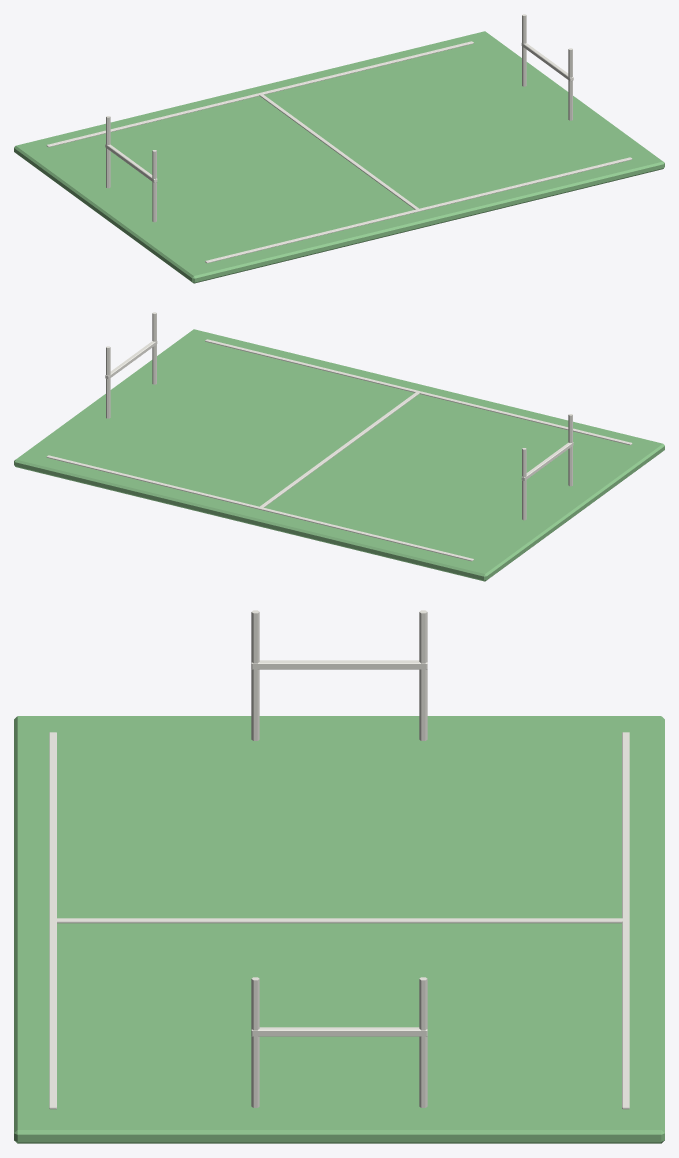
The model's file is SPORT_FOOTBALL_3x2_001.glb.
3 renders of one model, top to bottom at view 1: azimuth 30°, elevation 25°; view 2: azimuth 150°, elevation 25°; view 3: azimuth 270°, elevation 25°, orthographic. The views are drawn at different scales.
Parts seen in each view (by area): view 1: SPORT_FOOTBALL_3x2_001_Visual; view 2: SPORT_FOOTBALL_3x2_001_Visual; view 3: SPORT_FOOTBALL_3x2_001_Visual.
Part boxes in pixels (x1,y1,x2,y2): SPORT_FOOTBALL_3x2_001_Visual: [14, 14, 664, 283]; SPORT_FOOTBALL_3x2_001_Visual: [14, 312, 664, 581]; SPORT_FOOTBALL_3x2_001_Visual: [14, 610, 664, 1143].
Size of what is drawn, in the model's own units: 5.88 by 0.93 by 3.88.
